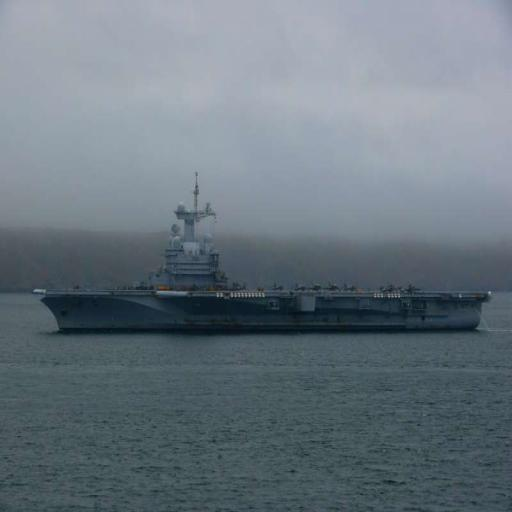Portanaves: (34, 172, 496, 339)
